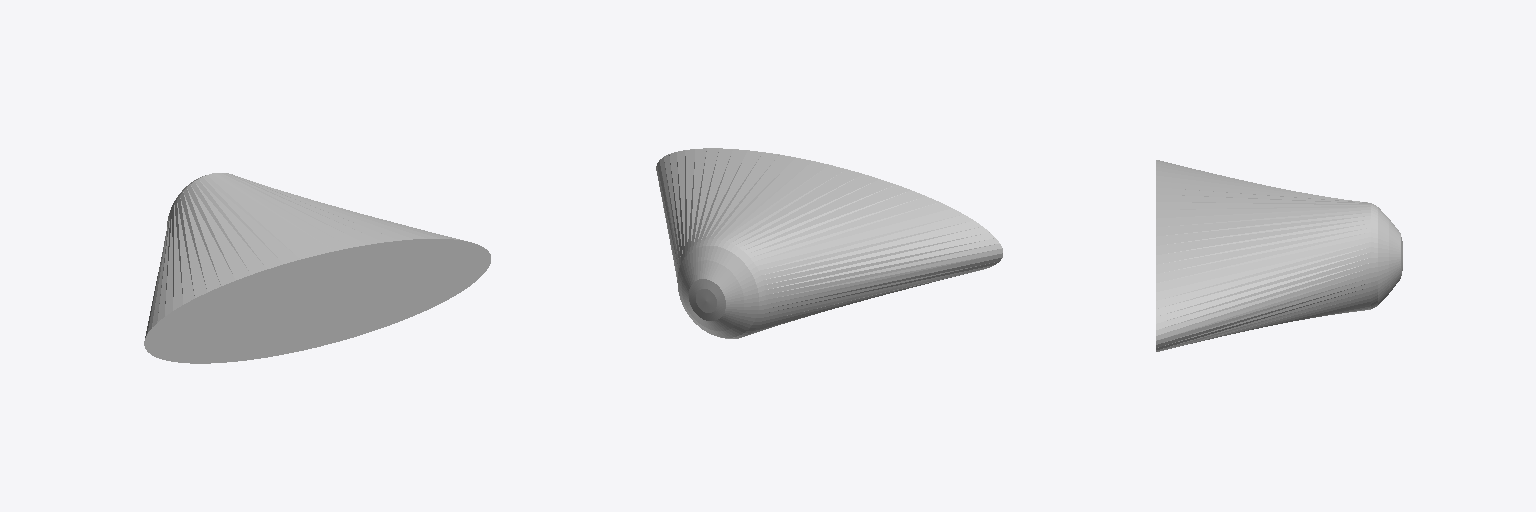
The model's file is ConnectionIndicator.obj.
The picture shows the model from 3 angles: view 1: azimuth 30°, elevation 25°; view 2: azimuth 150°, elevation 25°; view 3: azimuth 270°, elevation 25°; orthographic projection.
Visible parts, largest first — view 1: Cone; view 2: Cone; view 3: Cone.
Part boxes in pixels (x1,y1,x2,y2): Cone: (144,173,490,363); Cone: (656,148,1002,338); Cone: (1156,160,1402,351).
Bounding box in the file's own units: 0.1333 × 0.036 × 0.0821.